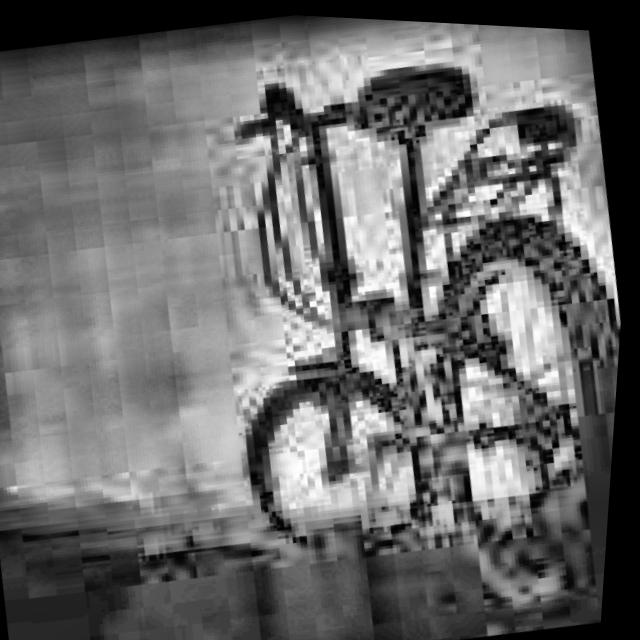bike: (168, 15, 640, 640)
